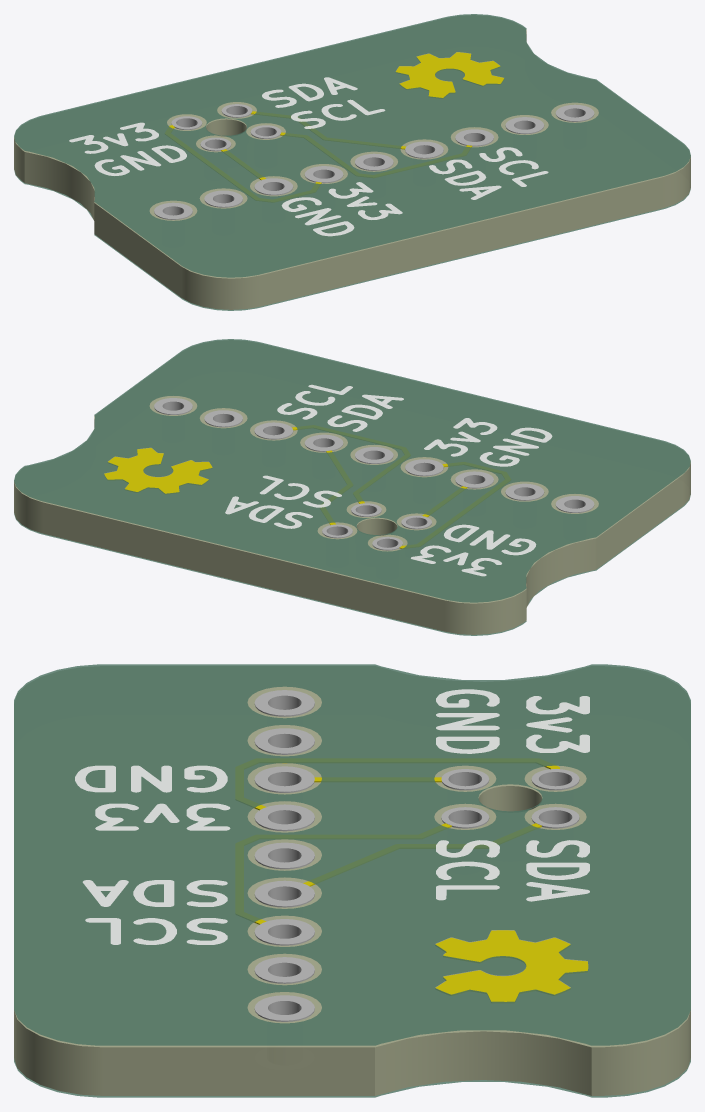
Rendered from belgrade-shitty-addon-adapter.glb.
3 views of the same model, one above another, from view 1: azimuth 30°, elevation 25°; view 2: azimuth 150°, elevation 25°; view 3: azimuth 270°, elevation 25° (orthographic). The views are drawn at different scales.
Parts seen in each view (by area): view 1: =>[0:1:1:8], =>[0:1:1:6], =>[0:1:1:2], =>[0:1:1:4]; view 2: =>[0:1:1:8], =>[0:1:1:6], =>[0:1:1:2], =>[0:1:1:4]; view 3: =>[0:1:1:8], =>[0:1:1:6], =>[0:1:1:2], =>[0:1:1:4].
Part boxes in pixels (left/top/right/bottom): =>[0:1:1:8]: left=14, top=15, right=690, bottom=309; =>[0:1:1:6]: left=14, top=14, right=690, bottom=310; =>[0:1:1:2]: left=154, top=52, right=594, bottom=219; =>[0:1:1:4]: left=69, top=77, right=548, bottom=236; =>[0:1:1:8]: left=14, top=340, right=690, bottom=634; =>[0:1:1:6]: left=14, top=339, right=690, bottom=635; =>[0:1:1:2]: left=104, top=398, right=594, bottom=550; =>[0:1:1:4]: left=225, top=384, right=552, bottom=576; =>[0:1:1:8]: left=14, top=666, right=690, bottom=1095; =>[0:1:1:6]: left=14, top=664, right=690, bottom=1097; =>[0:1:1:2]: left=236, top=690, right=588, bottom=1021; =>[0:1:1:4]: left=75, top=689, right=589, bottom=944.
Size of the model in its own units: 0.0254 by 0.00166 by 0.019.
4 materials, 4 textured.
